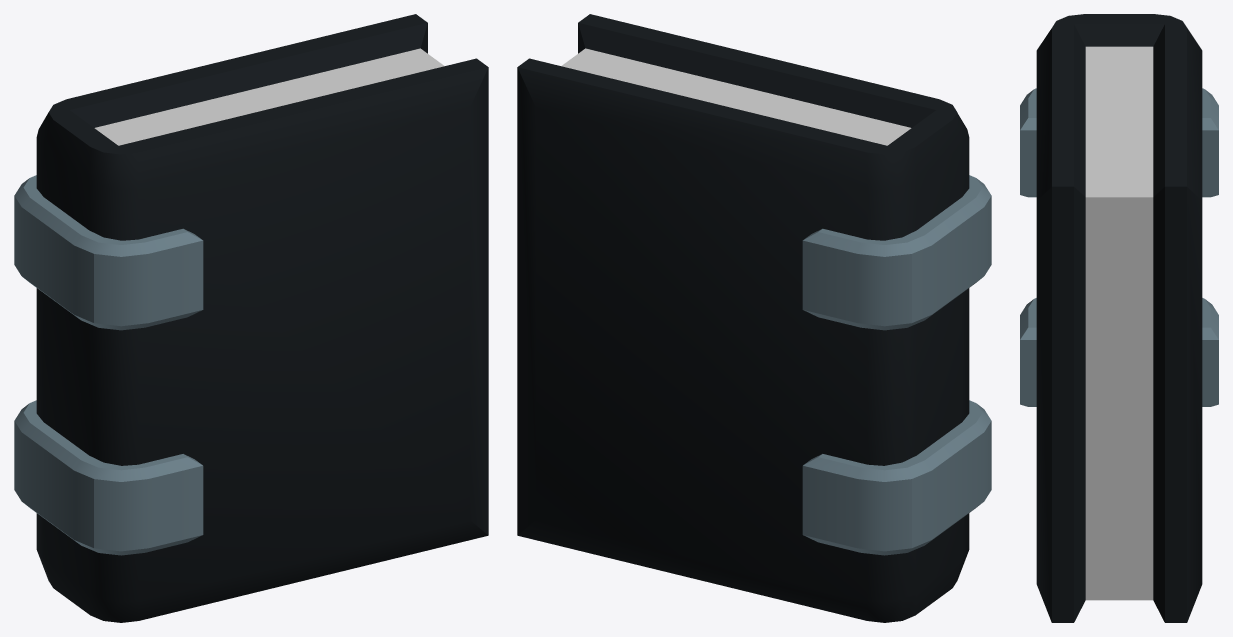
File: bookA.obj.glb
3 renders of one model, left to right at view 1: azimuth 30°, elevation 25°; view 2: azimuth 150°, elevation 25°; view 3: azimuth 270°, elevation 25°, orthographic. The views are drawn at different scales.
Visible parts, largest first — view 1: Asset3DLoader.sceneRoot; view 2: Asset3DLoader.sceneRoot; view 3: Asset3DLoader.sceneRoot.
Part boxes in pixels (x1,y1,x2,y2): Asset3DLoader.sceneRoot: [14, 14, 488, 622]; Asset3DLoader.sceneRoot: [517, 14, 991, 622]; Asset3DLoader.sceneRoot: [1020, 14, 1218, 622].
Size of the model in its own units: 0.3758 by 0.4161 by 0.172.
